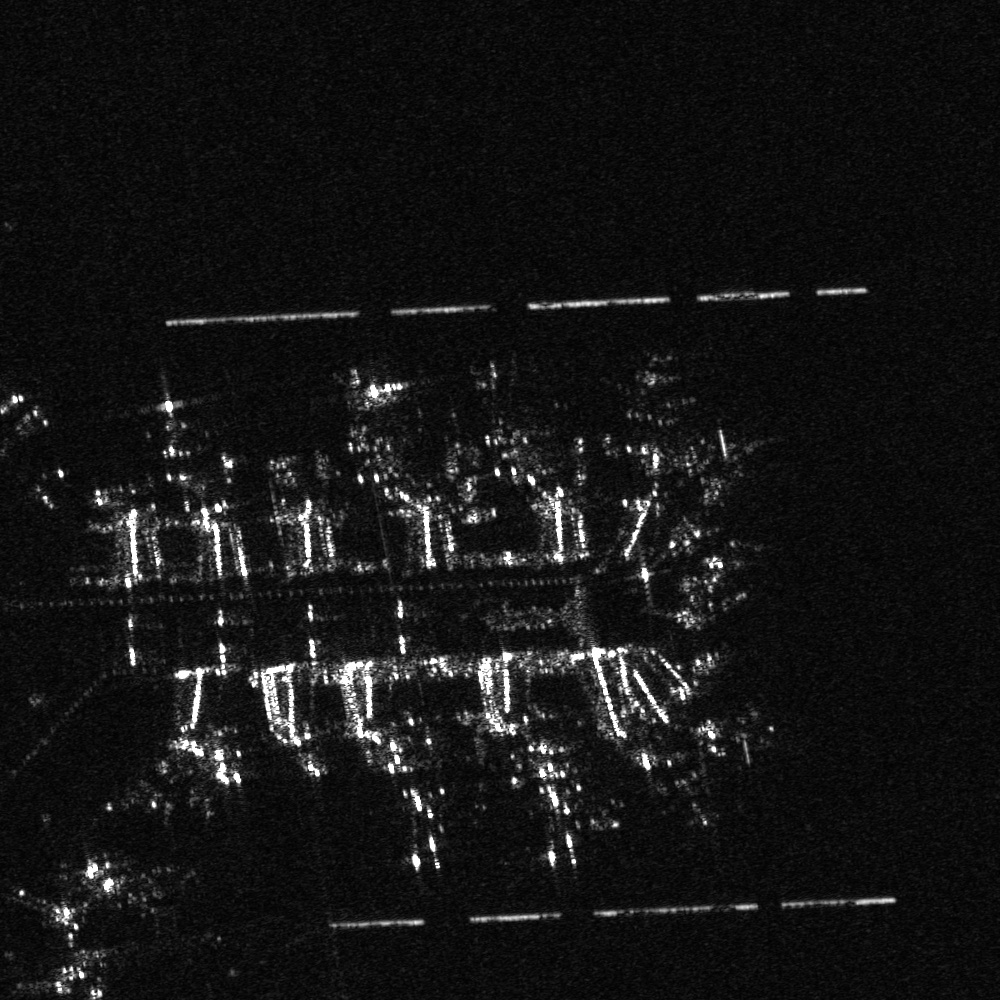A220: (136, 386, 200, 438)
A320/321: (514, 755, 611, 866), (617, 364, 695, 432), (338, 364, 415, 423)
Boeing737: (651, 748, 721, 834)
Boeing787: (378, 775, 459, 873)
